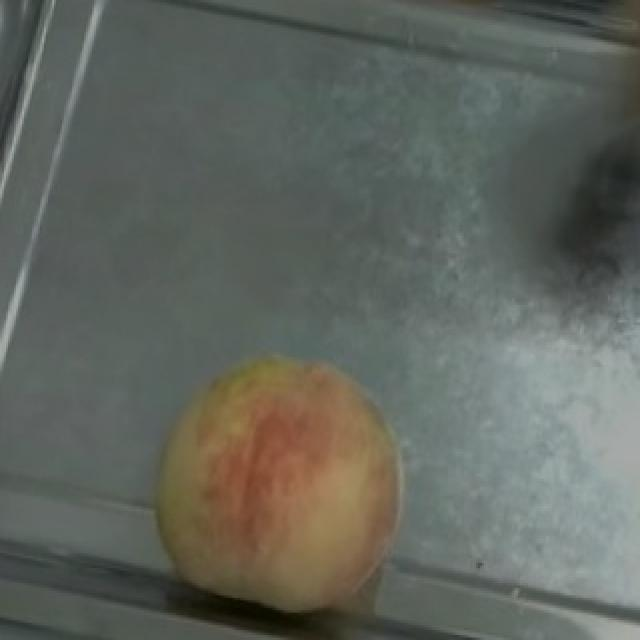Fruit: (114, 317, 436, 640)
